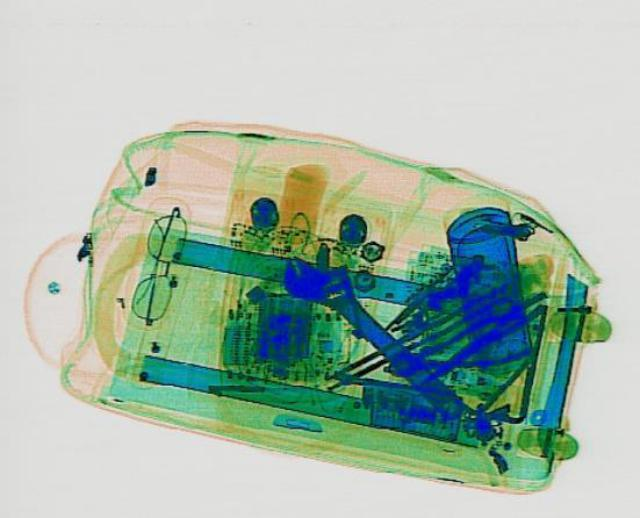Wrench: (266, 238, 486, 427)
